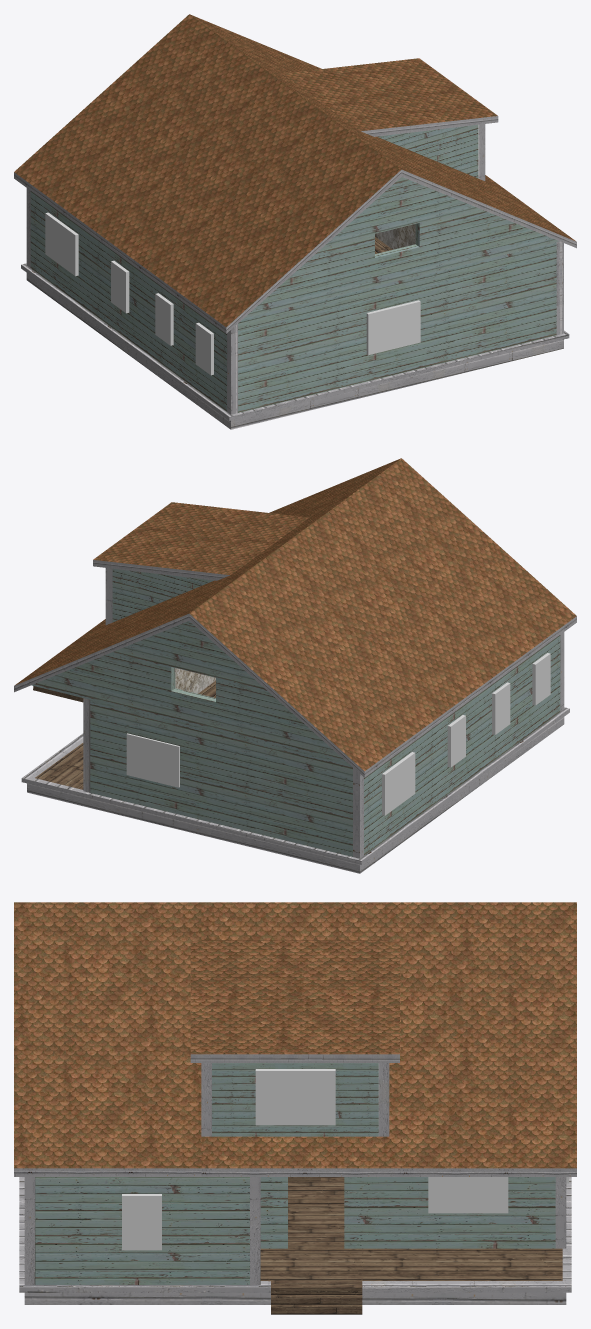
File: house_shell.glb
The picture shows the model from 3 angles, top to bottom: view 1: azimuth 30°, elevation 25°; view 2: azimuth 150°, elevation 25°; view 3: azimuth 270°, elevation 25°; orthographic projection. The views are drawn at different scales.
Parts seen in each view (by area): view 1: Roof, Walls (down), Roof (small), Foundation, window hole (down), Walls (up); view 2: Roof, Walls (down), Foundation, Roof (small), window hole (down), Walls (up); view 3: Roof, Walls (down), Roof (small), Foundation, Walls (up), window hole (down), window hole (up), Porch stairs.
Boxes of the visible parts, x1,y1,x2,y2 form: Roof: [14, 14, 576, 333]; Walls (down): [26, 177, 563, 414]; Roof (small): [282, 58, 498, 136]; Foundation: [21, 263, 569, 429]; window hole (down): [45, 212, 420, 375]; Walls (up): [375, 124, 485, 249]; Roof: [14, 458, 576, 777]; Walls (down): [31, 621, 564, 858]; Foundation: [21, 707, 569, 873]; Roof (small): [93, 502, 308, 580]; window hole (down): [126, 653, 550, 815]; Walls (up): [105, 568, 215, 693]; Roof: [14, 902, 576, 1176]; Walls (down): [24, 1177, 566, 1284]; Roof (small): [190, 940, 399, 1062]; Foundation: [19, 1177, 571, 1304]; Walls (up): [201, 1063, 389, 1136]; window hole (down): [122, 1177, 568, 1250]; window hole (up): [255, 1069, 335, 1125]; Porch stairs: [271, 1285, 362, 1314].
Bounding box in the file's own units: 102 × 60.77 × 105.
Materials: 8 (8 with a texture image).
